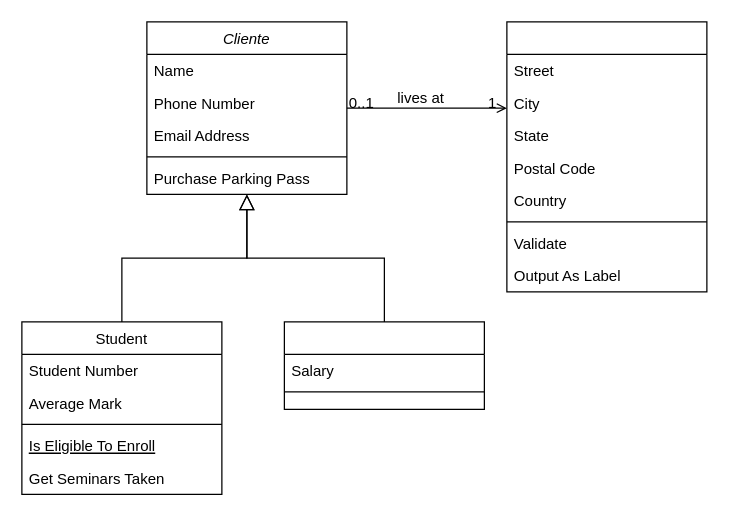
The diagram is 729 pixels wide and 520 high, and some of its shapes have lost their labels. Each missing label, with the box of its shape:
Address: (506, 21, 707, 292)
Professor: (283, 321, 484, 409)
